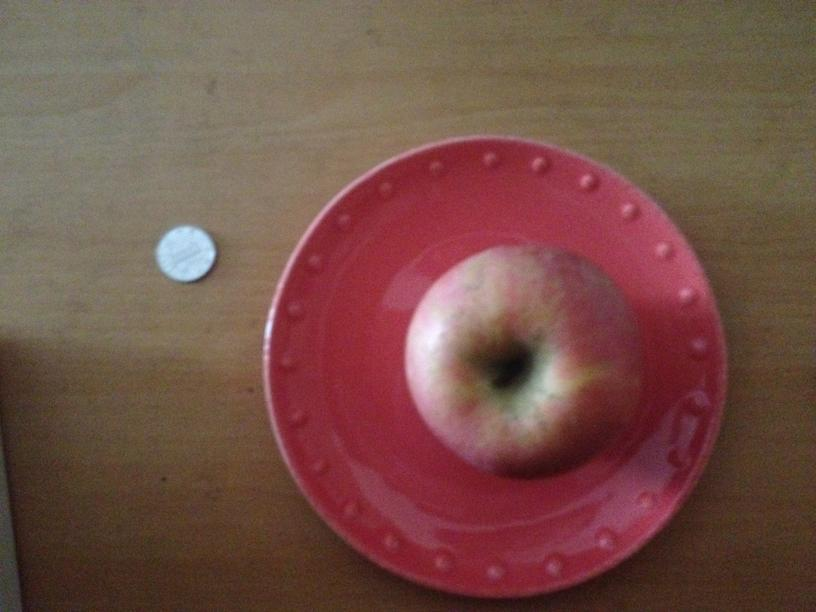apple: (404, 242, 645, 479)
coin: (158, 222, 215, 283)
